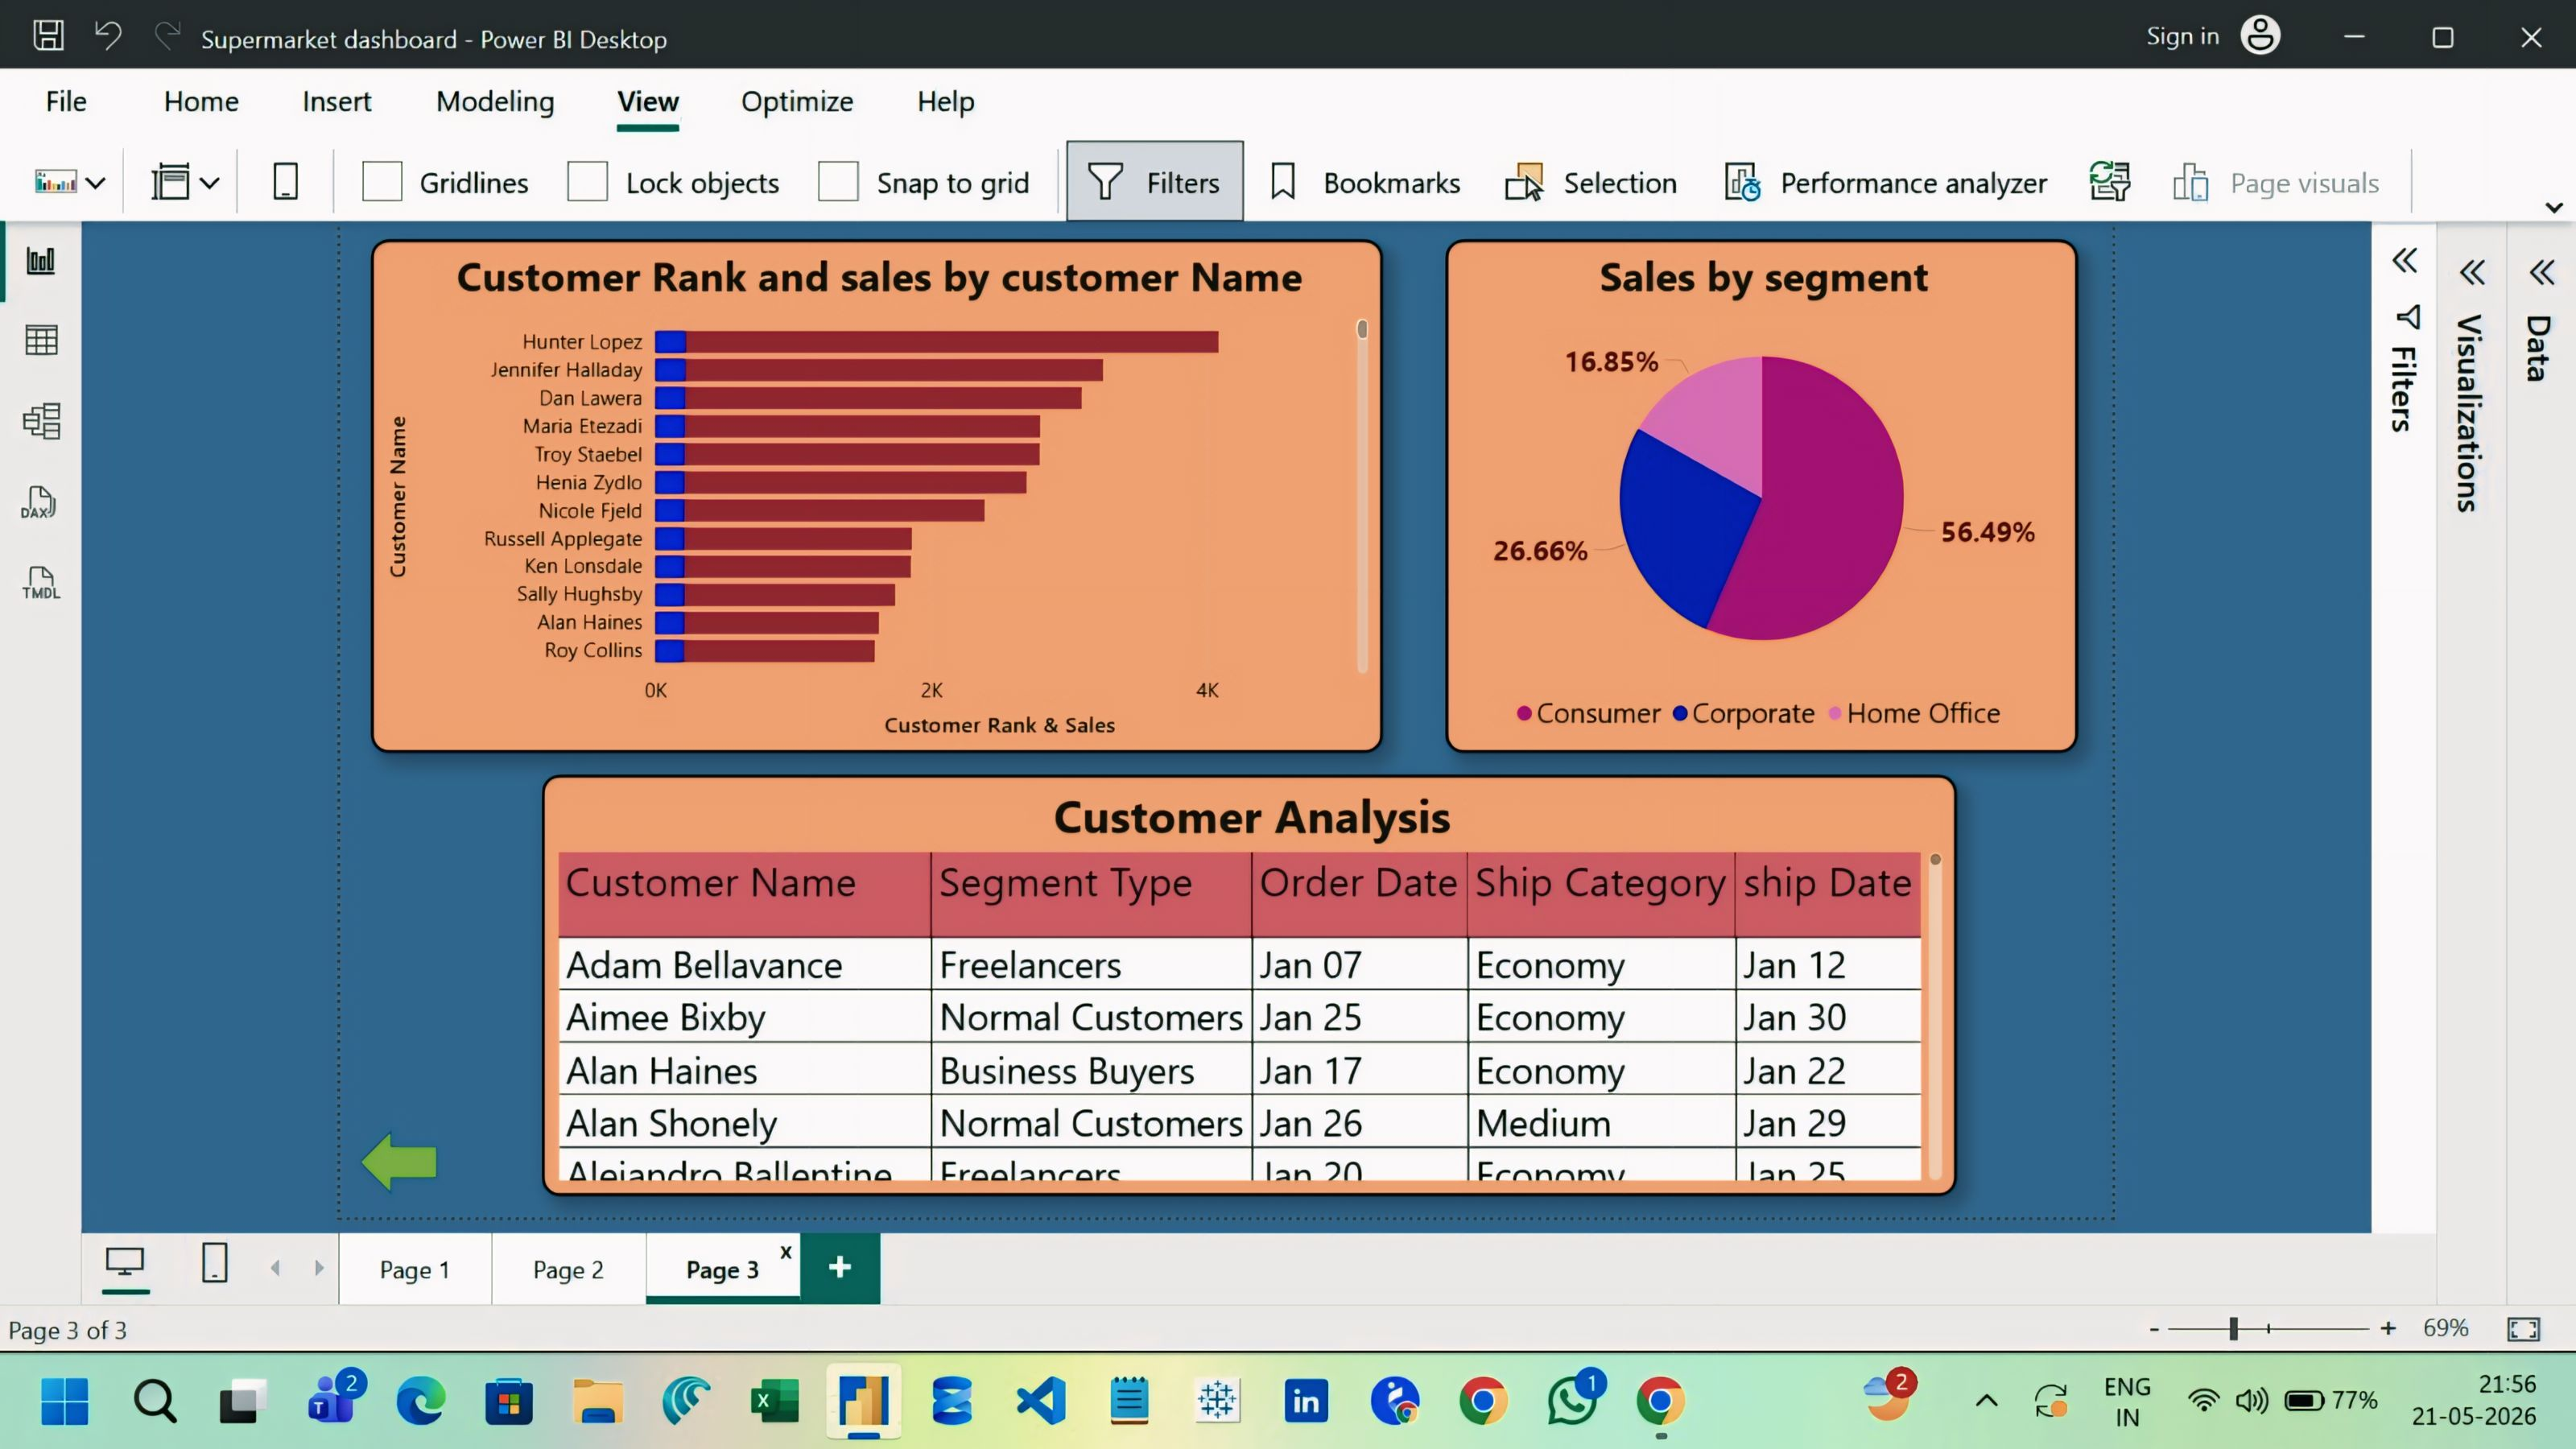

The page's visual inventory and layout, read from the dashboard file:
{"tool":"powerbi","page":{"name":"Page 3","canvas":[1280,720],"ordinal":2},"visuals":[{"type":"pieChart","title":"Sales by segment","fields":{"Category":["Supermarket data.segment"],"Y":["Sum(Supermarket data.sales)"]},"box":[799.1,13.1,457,371.2],"z":0},{"type":"barChart","title":"Customer Rank and  sales by customer Name","fields":{"Category":["Supermarket data.customer_name"],"Y":["Supermarket data.Customer Rank","Supermarket data.Total sales"]},"box":[21.8,13.1,732.1,371.2],"z":1000},{"type":"tableEx","title":"Customer Analysis","fields":{"Values":["Supermarket data.customer_name","Supermarket data.Segment Type","Supermarket data.Order Date","Supermarket data.Ship Category","Supermarket data.ship Date"]},"box":[145.4,399.8,1023.6,304.4],"z":2000},{"type":"shape","box":[13.1,656.5,56.8,48],"z":4000}]}

Visuals, with their boxes on the page's 1280x720 design canvas (x1, y1, x2, y2). These are canvas units, not pixel positions in the 2576x1449 screenshot, which may show the page scaled, cropped or inside an application window:
"Sales by segment" pieChart: locate(799, 13, 1256, 384)
"Customer Rank and  sales by customer Name" barChart: locate(22, 13, 754, 384)
"Customer Analysis" tableEx: locate(145, 400, 1169, 704)
shape: locate(13, 656, 70, 704)
